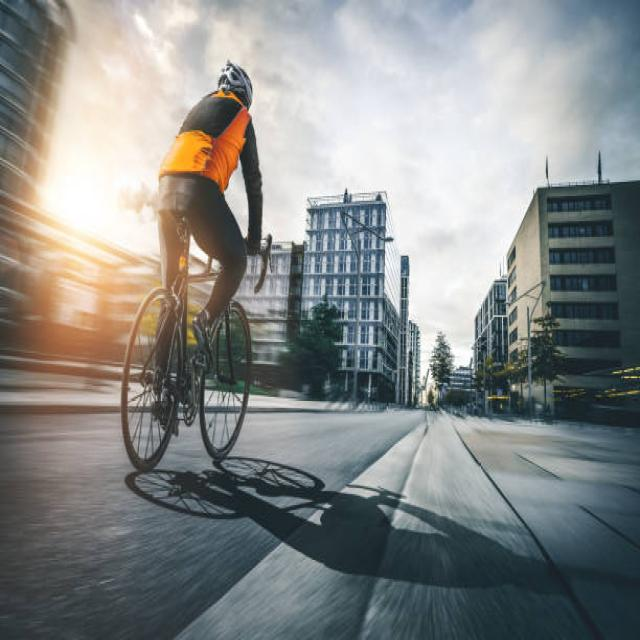bicycle: (121, 62, 262, 470)
